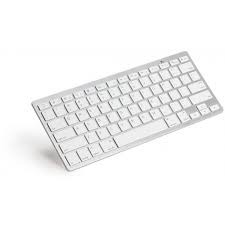keyboard: (23, 41, 220, 177)
